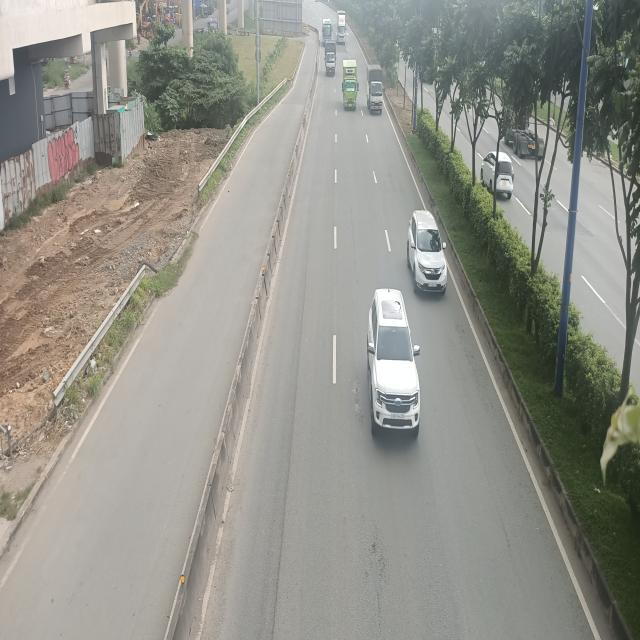car: (368, 288, 424, 435), (408, 211, 448, 296)
truck: (368, 66, 386, 116), (342, 59, 358, 113)
